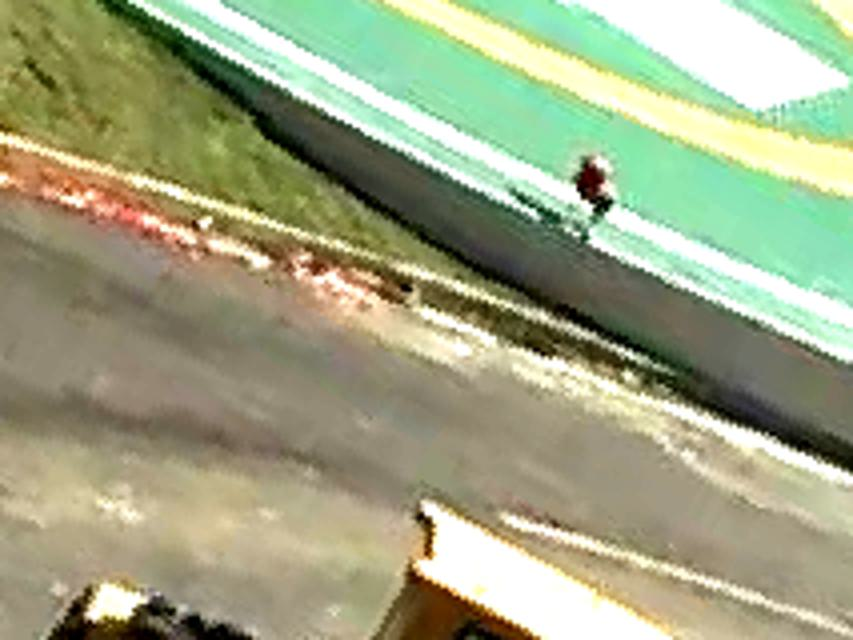Apron: (333, 1, 851, 215)
